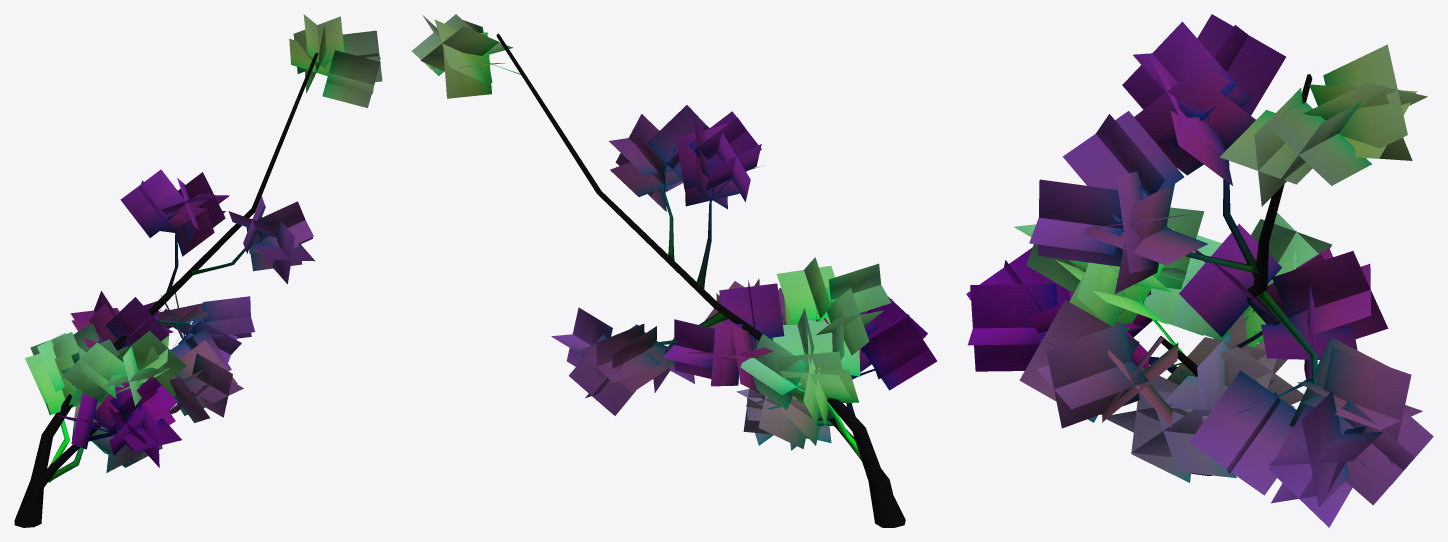
The model's file is URP_P5_Tree_12_LOD_2.fbx.
3 renders of one model, left to right at view 1: azimuth 30°, elevation 25°; view 2: azimuth 150°, elevation 25°; view 3: azimuth 270°, elevation 25°, orthographic. The views are drawn at different scales.
Parts seen in each view (by area): view 1: Tree_12_LOD_2; view 2: Tree_12_LOD_2; view 3: Tree_12_LOD_2.
Part boxes in pixels (x1,y1,x2,y2): Tree_12_LOD_2: [14, 14, 382, 527]; Tree_12_LOD_2: [411, 14, 937, 527]; Tree_12_LOD_2: [966, 14, 1433, 527].
Bounding box in the file's own units: 739 × 694 × 415.
